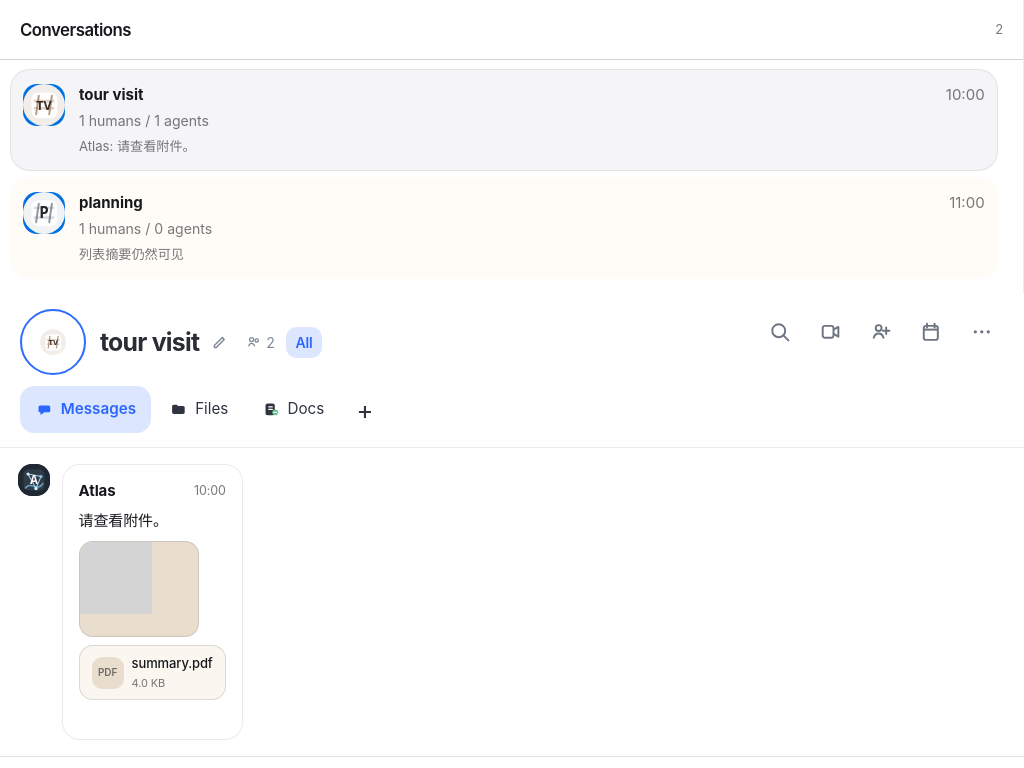
ChannelsPageClient › reuses workspace module cache for split channel detail data
Click the button "P planning 11:00 1 humans / 0 agents 列表摘要仍然可见": (44, 213) [10, 177, 998, 279]
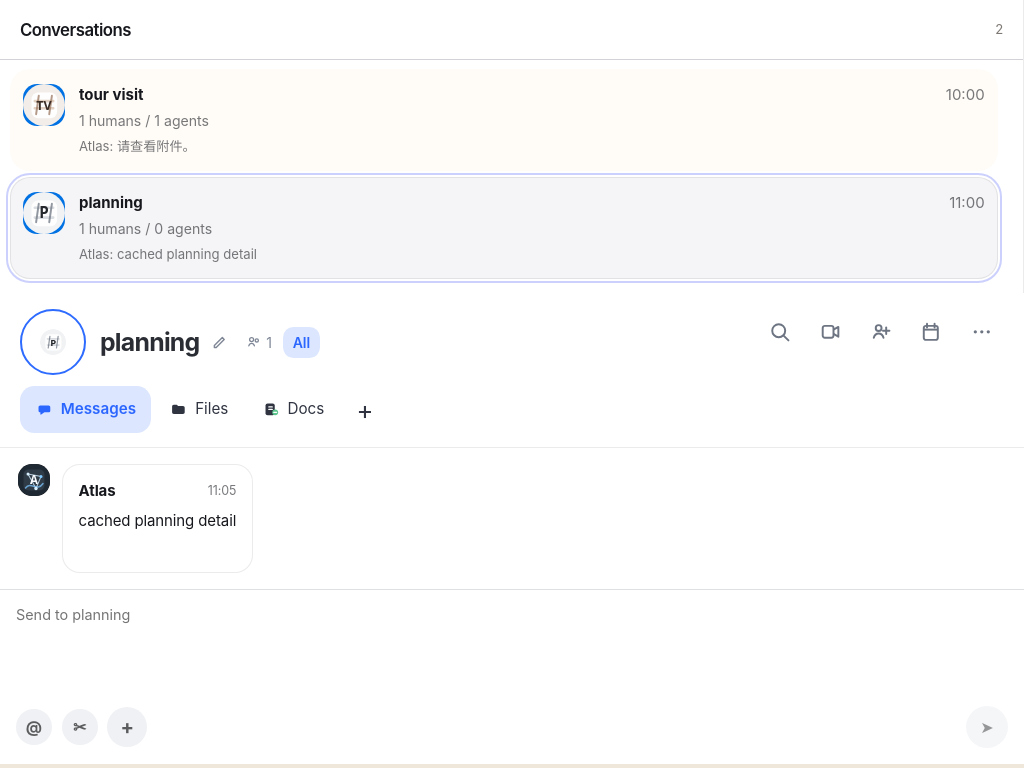
Expected: the text "cached planning detail" is shown, [79, 509, 236, 533]
